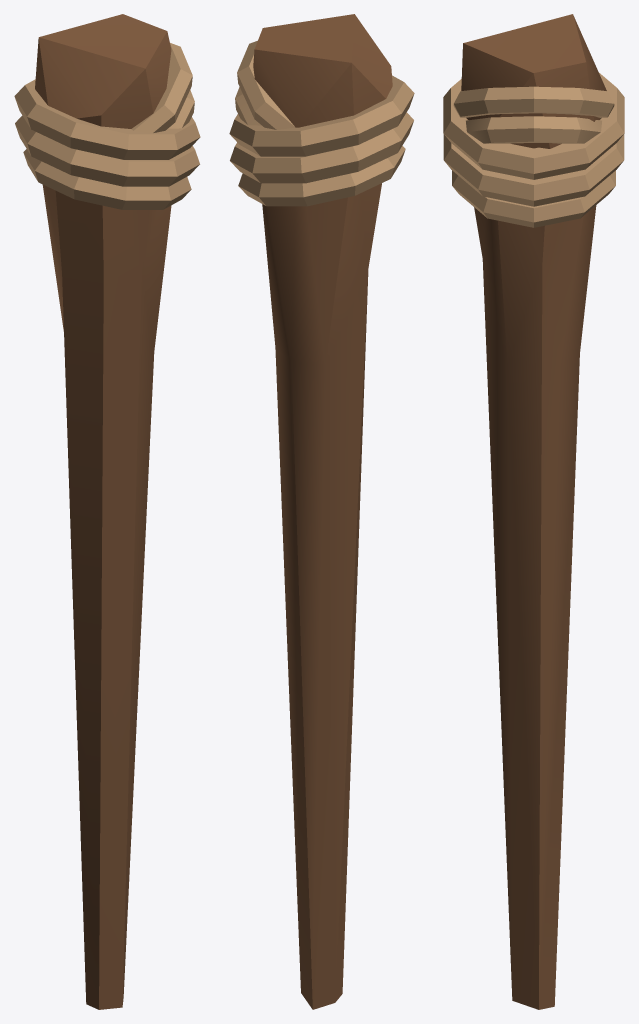
The model's file is WoodenTorch_01.fbx.
The picture shows the model from 3 angles, left to right: view 1: azimuth 30°, elevation 25°; view 2: azimuth 150°, elevation 25°; view 3: azimuth 270°, elevation 25°; orthographic projection.
Parts seen in each view (by area): view 1: WoodenTorch_01_LOD0; view 2: WoodenTorch_01_LOD0; view 3: WoodenTorch_01_LOD0.
Boxes of the visible parts, x1,y1,x2,y2 form: WoodenTorch_01_LOD0: (14,14,200,1009); WoodenTorch_01_LOD0: (229,14,414,1009); WoodenTorch_01_LOD0: (443,14,624,1009).
Size of what is drawn, in the model's own units: 0.1253 by 0.7224 by 0.1224.
